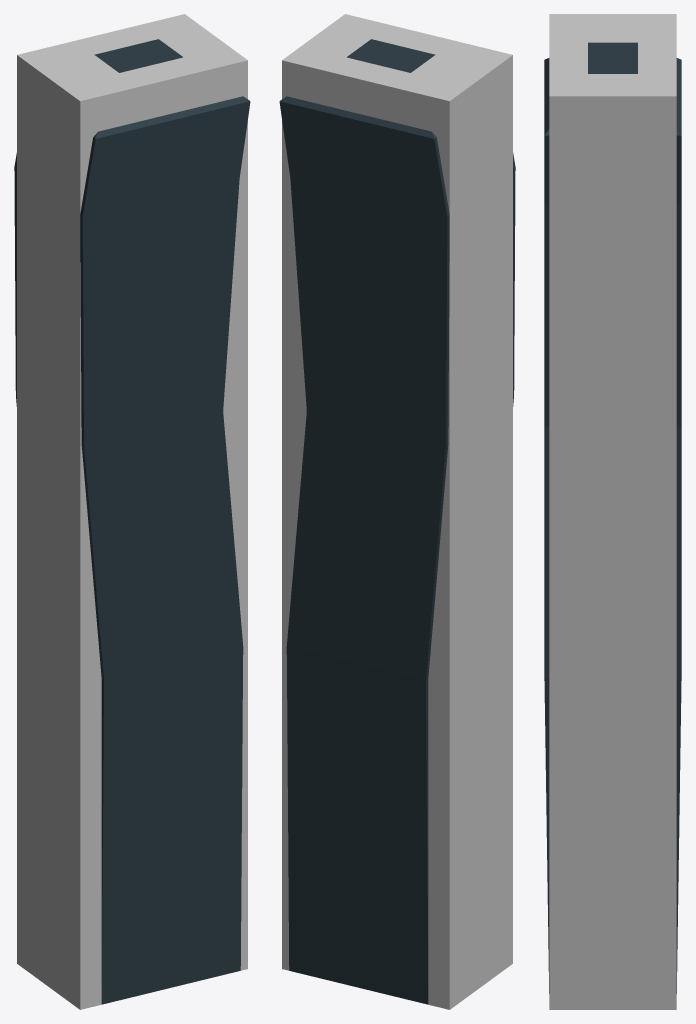
The model's file is SM_Railing_End.fbx.
3 views of the same model, side by side, from view 1: azimuth 30°, elevation 25°; view 2: azimuth 150°, elevation 25°; view 3: azimuth 270°, elevation 25° (orthographic).
Parts seen in each view (by area): view 1: SM_Railing_End, SM_Railing_End_ConvexHulls; view 2: SM_Railing_End, SM_Railing_End_ConvexHulls; view 3: SM_Railing_End_ConvexHulls, SM_Railing_End.
Part boxes in pixels (box(x1,y1,x2,y2)): SM_Railing_End: box(14, 39, 250, 1004); SM_Railing_End_ConvexHulls: box(17, 14, 247, 1009); SM_Railing_End: box(279, 39, 515, 1004); SM_Railing_End_ConvexHulls: box(282, 14, 512, 1009); SM_Railing_End_ConvexHulls: box(549, 14, 676, 1009); SM_Railing_End: box(544, 42, 681, 993).
Bounding box in the file's own units: 30.62 × 21.54 × 158.
Materials: 2 (1 with a texture image).
